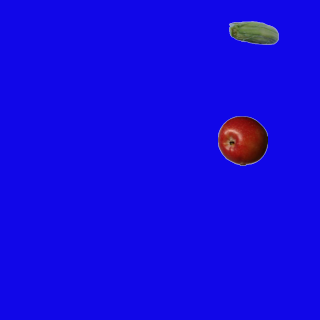Apple Braeburn: (217, 115, 267, 165)
Corn Husk: (228, 9, 278, 59)
